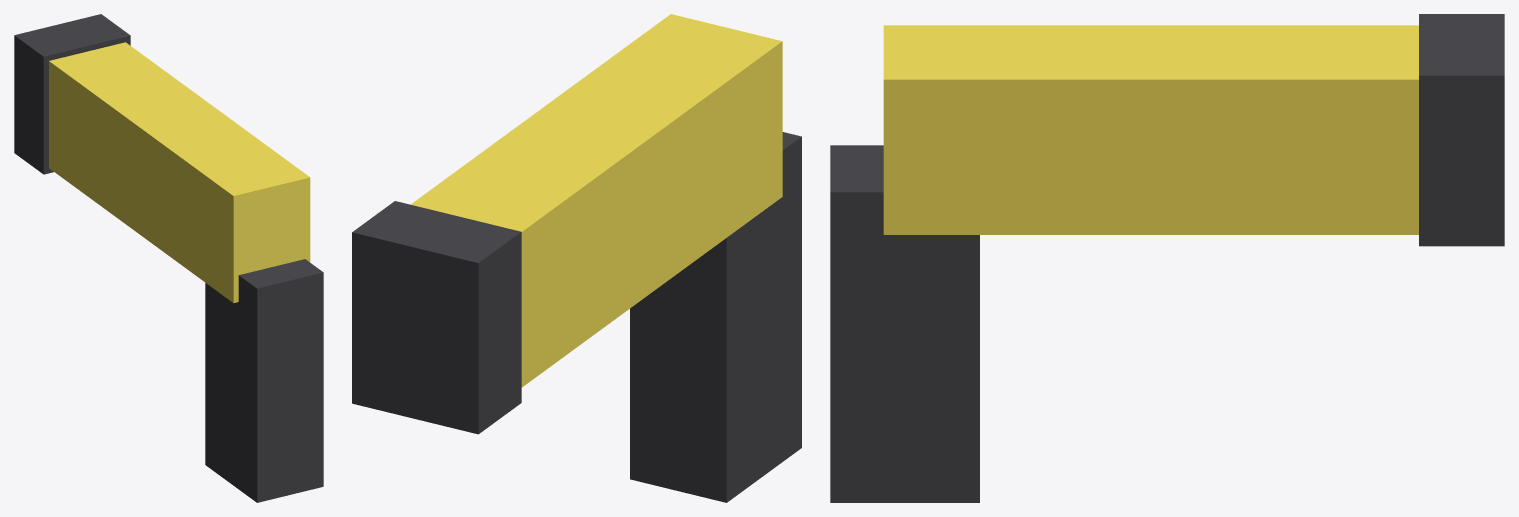
The model's file is taser.glb.
3 views of the same model, side by side, from view 1: azimuth 30°, elevation 25°; view 2: azimuth 150°, elevation 25°; view 3: azimuth 270°, elevation 25° (orthographic). The views are drawn at different scales.
Parts seen in each view (by area): view 1: taser; view 2: taser; view 3: taser.
Boxes of the visible parts, left/top/right/bottom form: taser: left=14, top=14, right=323, bottom=502; taser: left=352, top=14, right=801, bottom=502; taser: left=830, top=14, right=1504, bottom=502.
Size of the model in its own units: 0.034 by 0.112 by 0.1575.
